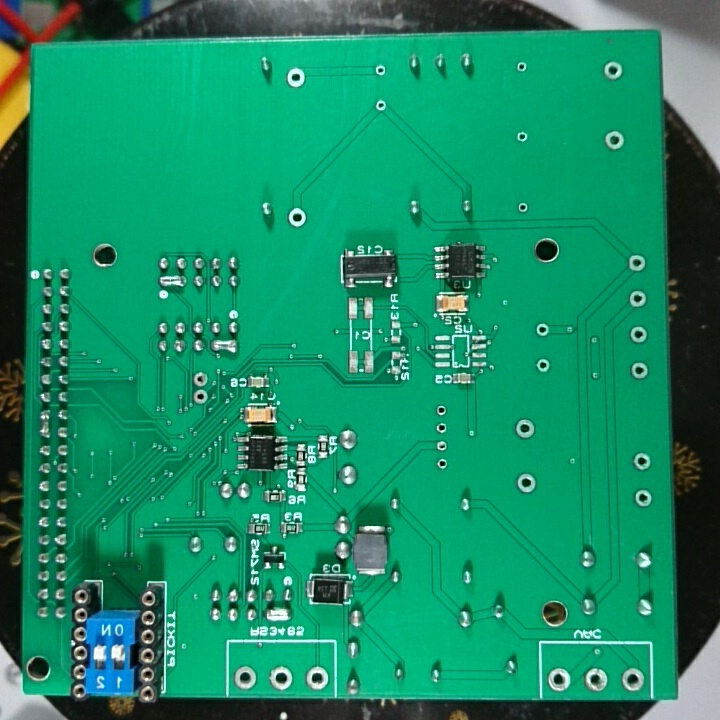F: (544, 664, 575, 693), (619, 663, 647, 695), (582, 664, 611, 694), (303, 663, 331, 692), (232, 662, 259, 692), (268, 663, 295, 693), (512, 469, 542, 495), (602, 127, 628, 155), (601, 58, 627, 84), (629, 486, 656, 511), (513, 416, 540, 441), (627, 358, 653, 383), (284, 65, 307, 90), (286, 206, 308, 231), (627, 286, 649, 311), (630, 450, 653, 473), (627, 323, 649, 346), (626, 252, 648, 274), (533, 357, 555, 376), (534, 320, 554, 340), (191, 369, 210, 389), (433, 420, 452, 438), (433, 455, 451, 474), (190, 389, 210, 406), (373, 97, 391, 115), (433, 400, 450, 419), (513, 58, 530, 75), (434, 435, 450, 453), (514, 129, 531, 145), (373, 61, 387, 79), (515, 200, 530, 216)
P: (208, 338, 239, 357), (261, 606, 294, 623), (156, 272, 186, 290), (36, 409, 51, 439)
